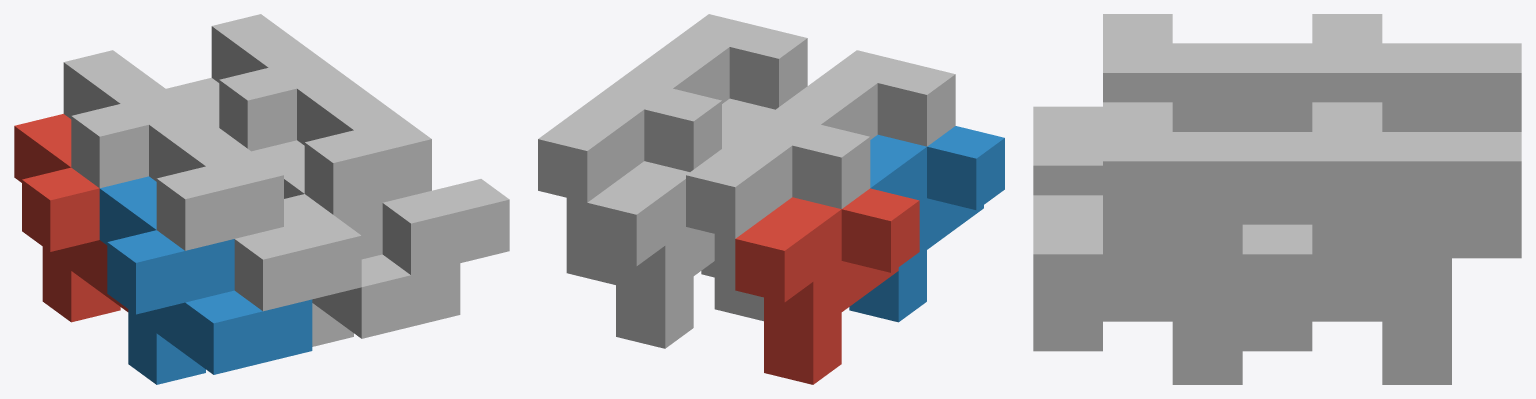
The model's file is tiling.obj.
3 views of the same model, side by side, from view 1: azimuth 30°, elevation 25°; view 2: azimuth 150°, elevation 25°; view 3: azimuth 270°, elevation 25° (orthographic). The views are drawn at different scales.
Parts seen in each view (by area): view 1: copy_1_domain_2, copy_1_domain_8, copy_1_domain_4, copy_1_domain_1, copy_1_domain_6, copy_1_domain_3, copy_1_domain_7, copy_1_domain_5; view 2: copy_1_domain_1, copy_1_domain_3, copy_1_domain_7, copy_1_domain_5, copy_1_domain_2, copy_1_domain_4, copy_1_domain_8, copy_1_domain_6; view 3: copy_1_domain_8, copy_1_domain_7, copy_1_domain_4, copy_1_domain_3, copy_1_domain_5, copy_1_domain_6.
Part boxes in pixels (x1,y1,x2,y2): copy_1_domain_2: (99,176,312,384); copy_1_domain_8: (297,76,509,274); copy_1_domain_4: (149,112,361,311); copy_1_domain_1: (14,114,128,322); copy_1_domain_6: (251,140,460,346); copy_1_domain_3: (63,50,197,188); copy_1_domain_7: (211,14,345,151); copy_1_domain_5: (166,77,219,127); copy_1_domain_1: (735,188,919,384); copy_1_domain_3: (686,112,870,321); copy_1_domain_7: (538,76,721,284); copy_1_domain_5: (587,161,714,348); copy_1_domain_2: (849,126,1004,322); copy_1_domain_4: (772,50,955,146); copy_1_domain_8: (624,14,807,109); copy_1_domain_6: (701,98,774,277); copy_1_domain_8: (1033,102,1312,351); copy_1_domain_7: (1242,102,1521,351); copy_1_domain_4: (1033,14,1312,195); copy_1_domain_3: (1312,14,1521,131); copy_1_domain_5: (1242,224,1521,384); copy_1_domain_6: (1033,288,1242,384).
Bounding box in the file's own units: 7 × 4 × 7.
